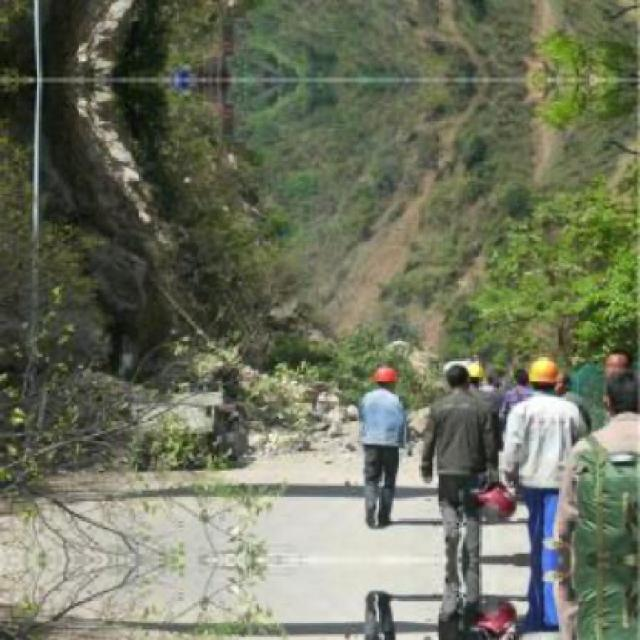con casco: (512, 345, 588, 398), (351, 366, 401, 396), (438, 364, 472, 401)
